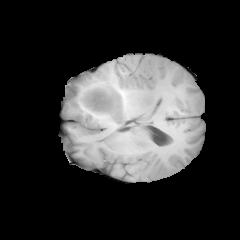glioma: (63, 75, 135, 134)
